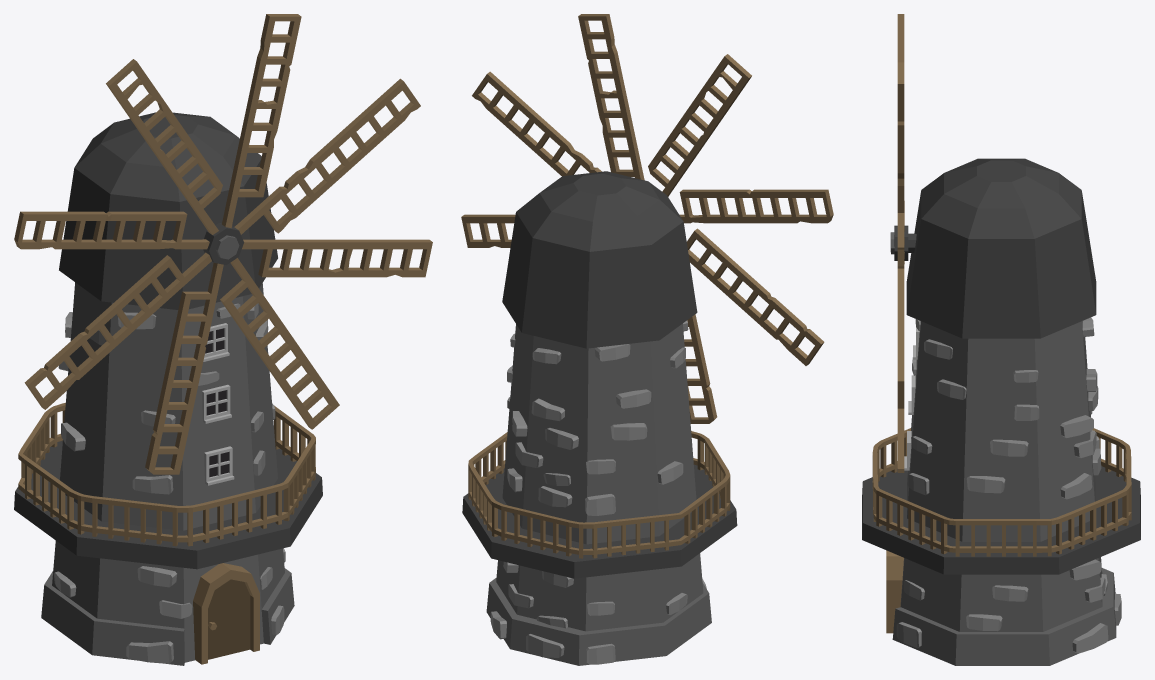
File: TowerWindmill.glb
The picture shows the model from 3 angles, left to right: view 1: azimuth 30°, elevation 25°; view 2: azimuth 150°, elevation 25°; view 3: azimuth 270°, elevation 25°; orthographic projection. The views are drawn at different scales.
Visible parts, largest first — view 1: TowerWindmill_Body, Blades; view 2: TowerWindmill_Body, Blades; view 3: TowerWindmill_Body, Blades.
Part boxes in pixels (x1=…): TowerWindmill_Body: x1=14, y1=112, x2=322, y2=665; Blades: x1=14, y1=14, x2=432, y2=474; TowerWindmill_Body: x1=462, y1=171, x2=737, y2=665; Blades: x1=461, y1=14, x2=833, y2=423; TowerWindmill_Body: x1=862, y1=158, x2=1140, y2=665; Blades: x1=897, y1=14, x2=904, y2=472.
Size of the model in its own units: 7.92 by 11.41 by 4.99.
